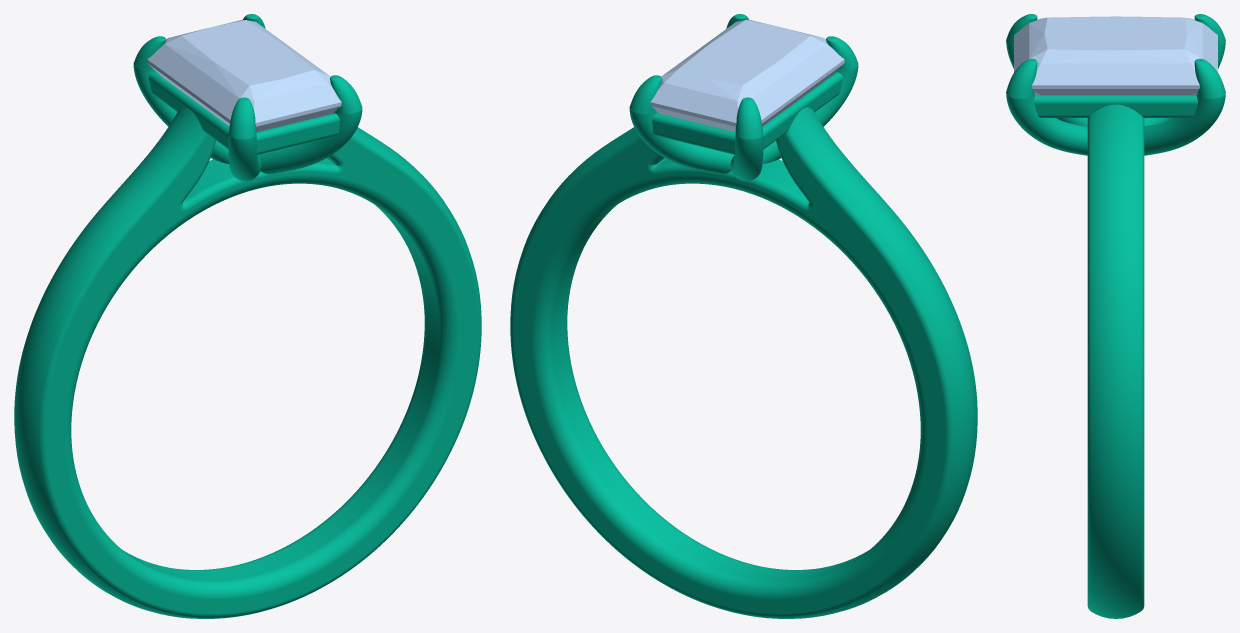
3 renders of one model, left to right at view 1: azimuth 30°, elevation 25°; view 2: azimuth 150°, elevation 25°; view 3: azimuth 270°, elevation 25°, orthographic.
Visible parts, largest first — view 1: VR557(front).3dm, Diamond_Radiant; view 2: VR557(front).3dm, Diamond_Radiant; view 3: VR557(front).3dm, Diamond_Radiant.
Boxes of the visible parts, x1=… form: VR557(front).3dm: x1=14, y1=14, x2=481, y2=618; Diamond_Radiant: x1=147, y1=20, x2=341, y2=132; VR557(front).3dm: x1=510, y1=14, x2=977, y2=618; Diamond_Radiant: x1=650, y1=20, x2=844, y2=132; VR557(front).3dm: x1=1006, y1=14, x2=1225, y2=618; Diamond_Radiant: x1=1014, y1=16, x2=1217, y2=95.
Size of the model in its own units: 2.51 by 2.93 by 1.04.
